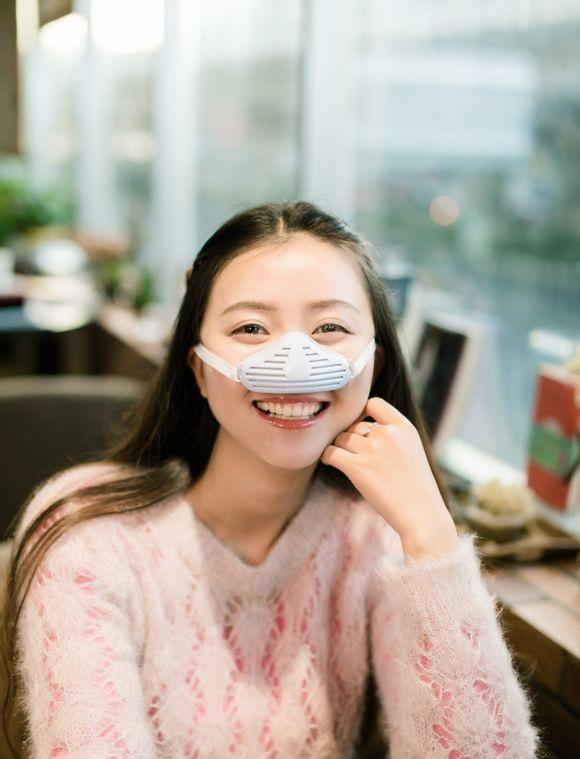WRONG: (207, 293, 375, 463)
